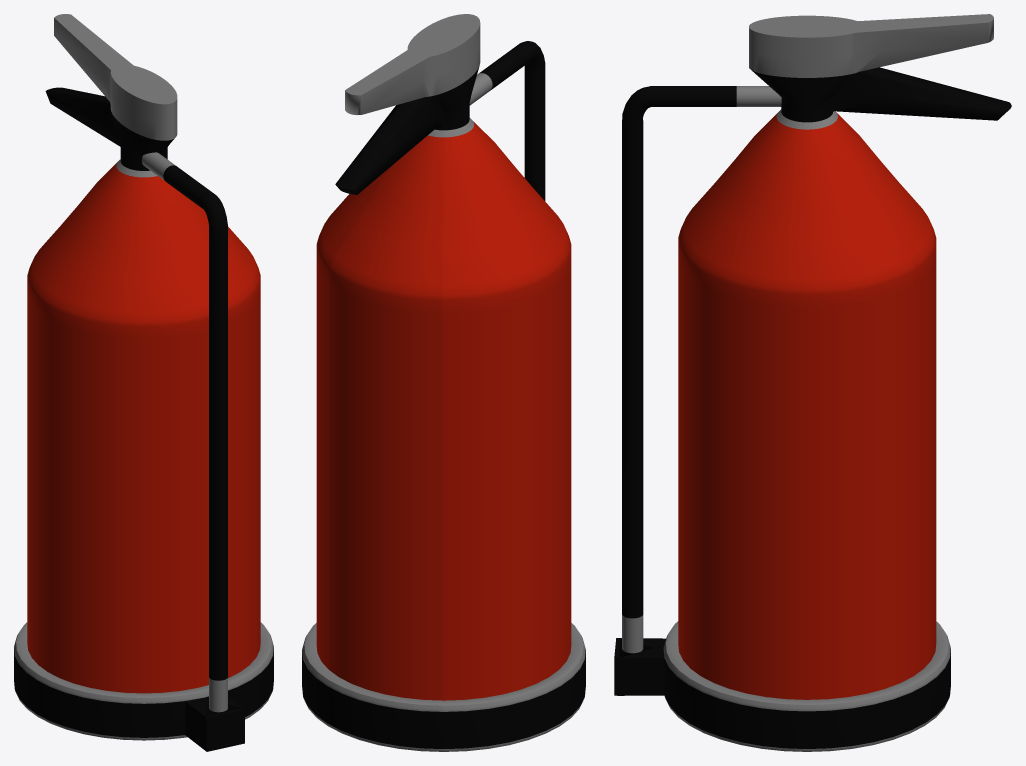
File: FIREEXTING.fbx
The picture shows the model from 3 angles, left to right: view 1: azimuth 30°, elevation 25°; view 2: azimuth 150°, elevation 25°; view 3: azimuth 270°, elevation 25°; orthographic projection. The views are drawn at different scales.
Parts seen in each view (by area): view 1: pCylinder3; view 2: pCylinder3; view 3: pCylinder3.
Boxes of the visible parts, <box> form: pCylinder3: <box>14,14,273,751</box>; pCylinder3: <box>302,14,585,751</box>; pCylinder3: <box>614,14,1011,751</box>.
Bounding box in the file's own units: 3.06 × 7.92 × 4.23.
